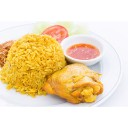briyani: (7, 35, 104, 104)
